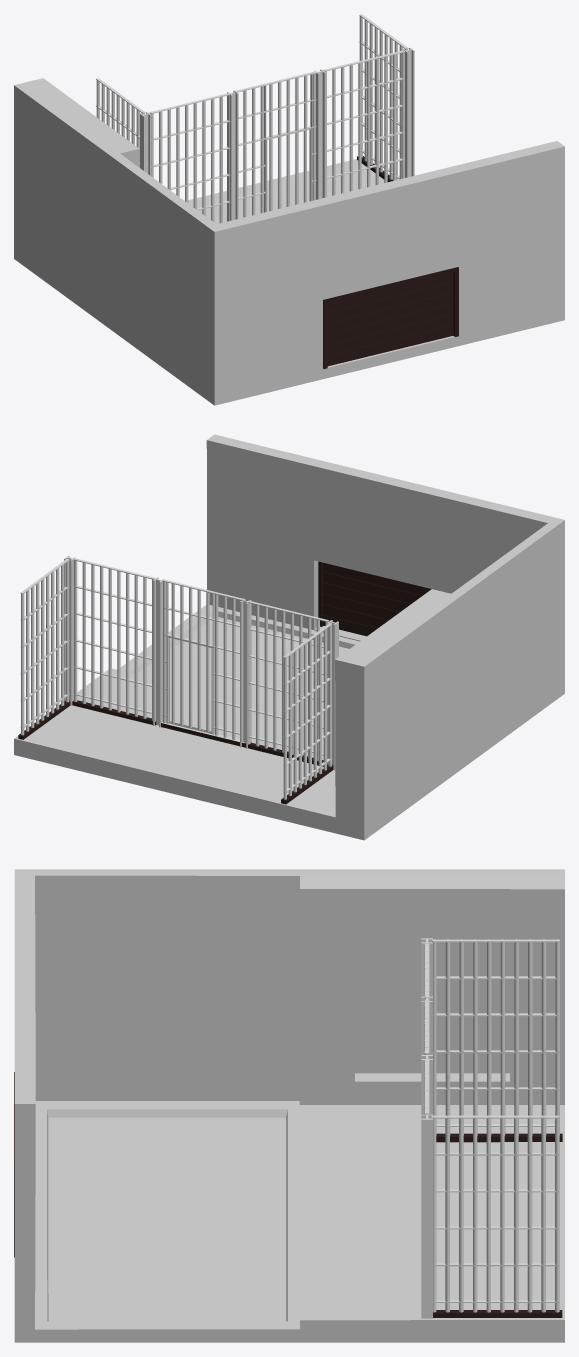
The model's file is prison_single.fbx.
The picture shows the model from 3 angles, top to bottom: view 1: azimuth 30°, elevation 25°; view 2: azimuth 150°, elevation 25°; view 3: azimuth 270°, elevation 25°; orthographic projection. The views are drawn at different scales.
Visible parts, largest first — view 1: Cube.025, Cube.039, Cube.033, Cylinder.017, Cube.030, Cube.035, Cylinder.018, Cube.029, Cube.031, Cube.038, Cube.032, Cube.034 (+1 smaller); view 2: Cube.025, Cube.033, Cube.029, Cube.035, Cylinder.017, Cube.039, Cube.030, Cylinder.018, Cube.031, Cube.032, Cube.034, Cube.028; view 3: Cube.025, Cube.035, Cube.029, Cube.034.
Part boxes in pixels (bbox=[...]): Cube.025: bbox=[14, 78, 564, 405]; Cube.039: bbox=[327, 271, 453, 366]; Cube.033: bbox=[323, 50, 404, 197]; Cylinder.017: bbox=[234, 71, 316, 219]; Cube.030: bbox=[149, 92, 231, 223]; Cube.035: bbox=[357, 14, 408, 181]; Cylinder.018: bbox=[266, 128, 311, 211]; Cube.029: bbox=[96, 78, 145, 167]; Cube.031: bbox=[227, 90, 238, 221]; Cube.038: bbox=[323, 267, 458, 368]; Cube.032: bbox=[314, 69, 325, 199]; Cube.034: bbox=[403, 47, 414, 177]; Cube.025: bbox=[14, 434, 564, 840]; Cube.033: bbox=[72, 558, 156, 725]; Cube.029: bbox=[281, 623, 333, 804]; Cube.035: bbox=[18, 558, 70, 739]; Cylinder.017: bbox=[161, 579, 244, 747]; Cube.039: bbox=[323, 562, 431, 636]; Cube.030: bbox=[244, 600, 329, 766]; Cylinder.018: bbox=[167, 636, 212, 733]; Cube.031: bbox=[240, 598, 251, 748]; Cube.032: bbox=[153, 577, 164, 727]; Cube.034: bbox=[64, 555, 75, 705]; Cube.028: bbox=[327, 620, 338, 770]; Cube.025: bbox=[14, 869, 564, 1342]; Cube.035: bbox=[431, 1115, 562, 1317]; Cube.029: bbox=[432, 939, 562, 1142]; Cube.034: bbox=[421, 1114, 432, 1318].
Bounding box in the file's own units: 209 × 98.91 × 207.
